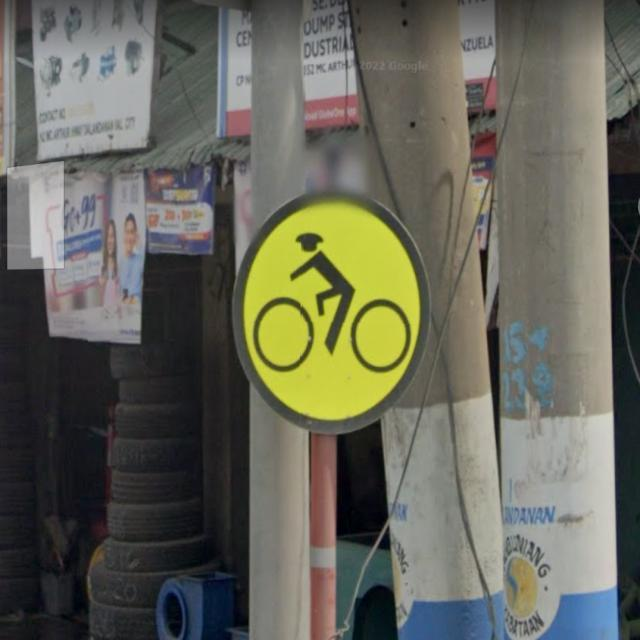bike lane: (232, 188, 429, 431)
